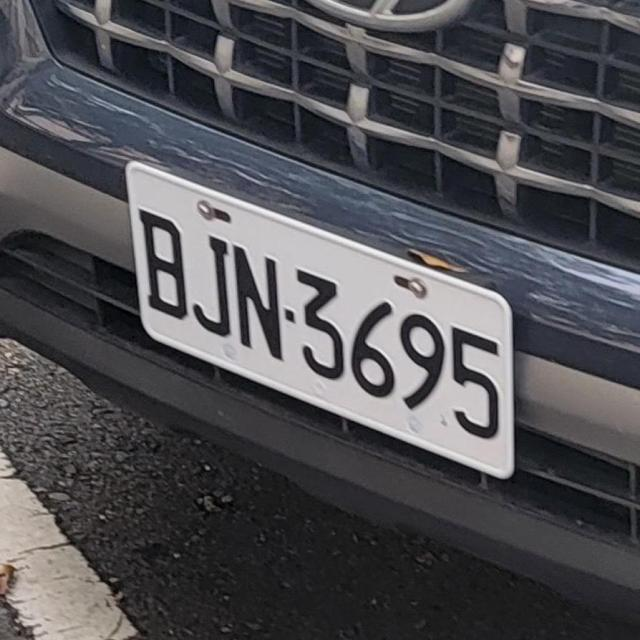W: (124, 159, 518, 483)
